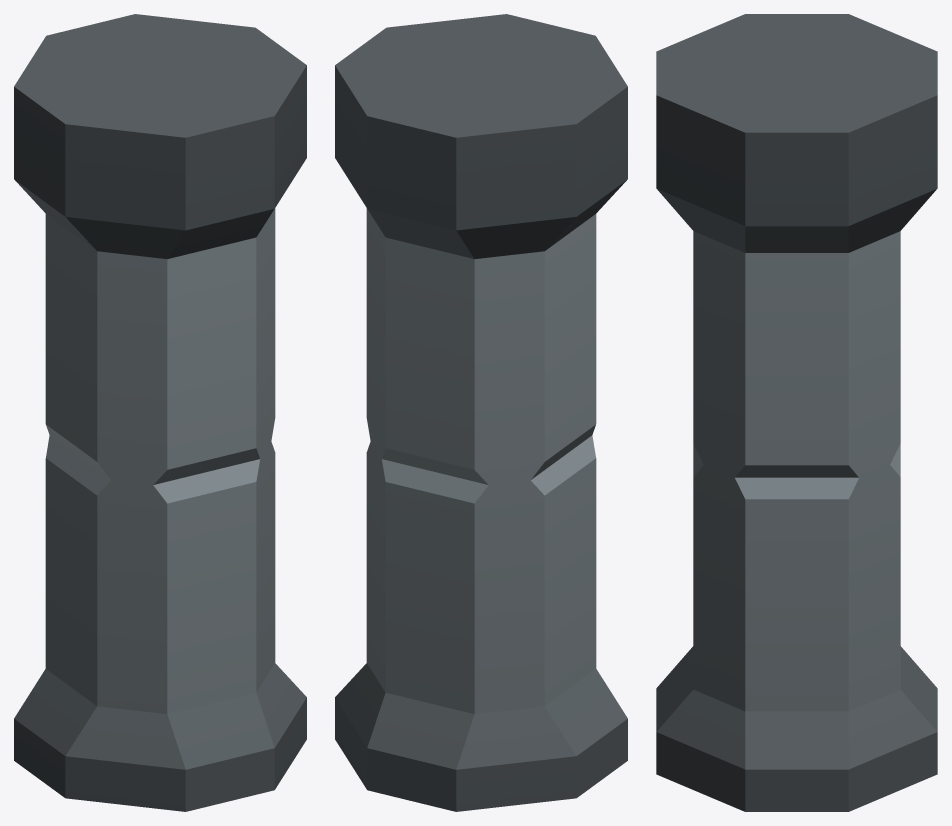
The model's file is pillar.gltf.
The picture shows the model from 3 angles, left to right: view 1: azimuth 30°, elevation 25°; view 2: azimuth 150°, elevation 25°; view 3: azimuth 270°, elevation 25°; orthographic projection.
Visible parts, largest first — view 1: pillar; view 2: pillar; view 3: pillar.
Boxes of the visible parts, left/top/right/bottom form: pillar: left=14, top=14, right=306, bottom=811; pillar: left=335, top=14, right=627, bottom=811; pillar: left=656, top=14, right=937, bottom=811.
Size of the model in its own units: 1.5 by 4 by 1.5.
1 material, 1 textured.
